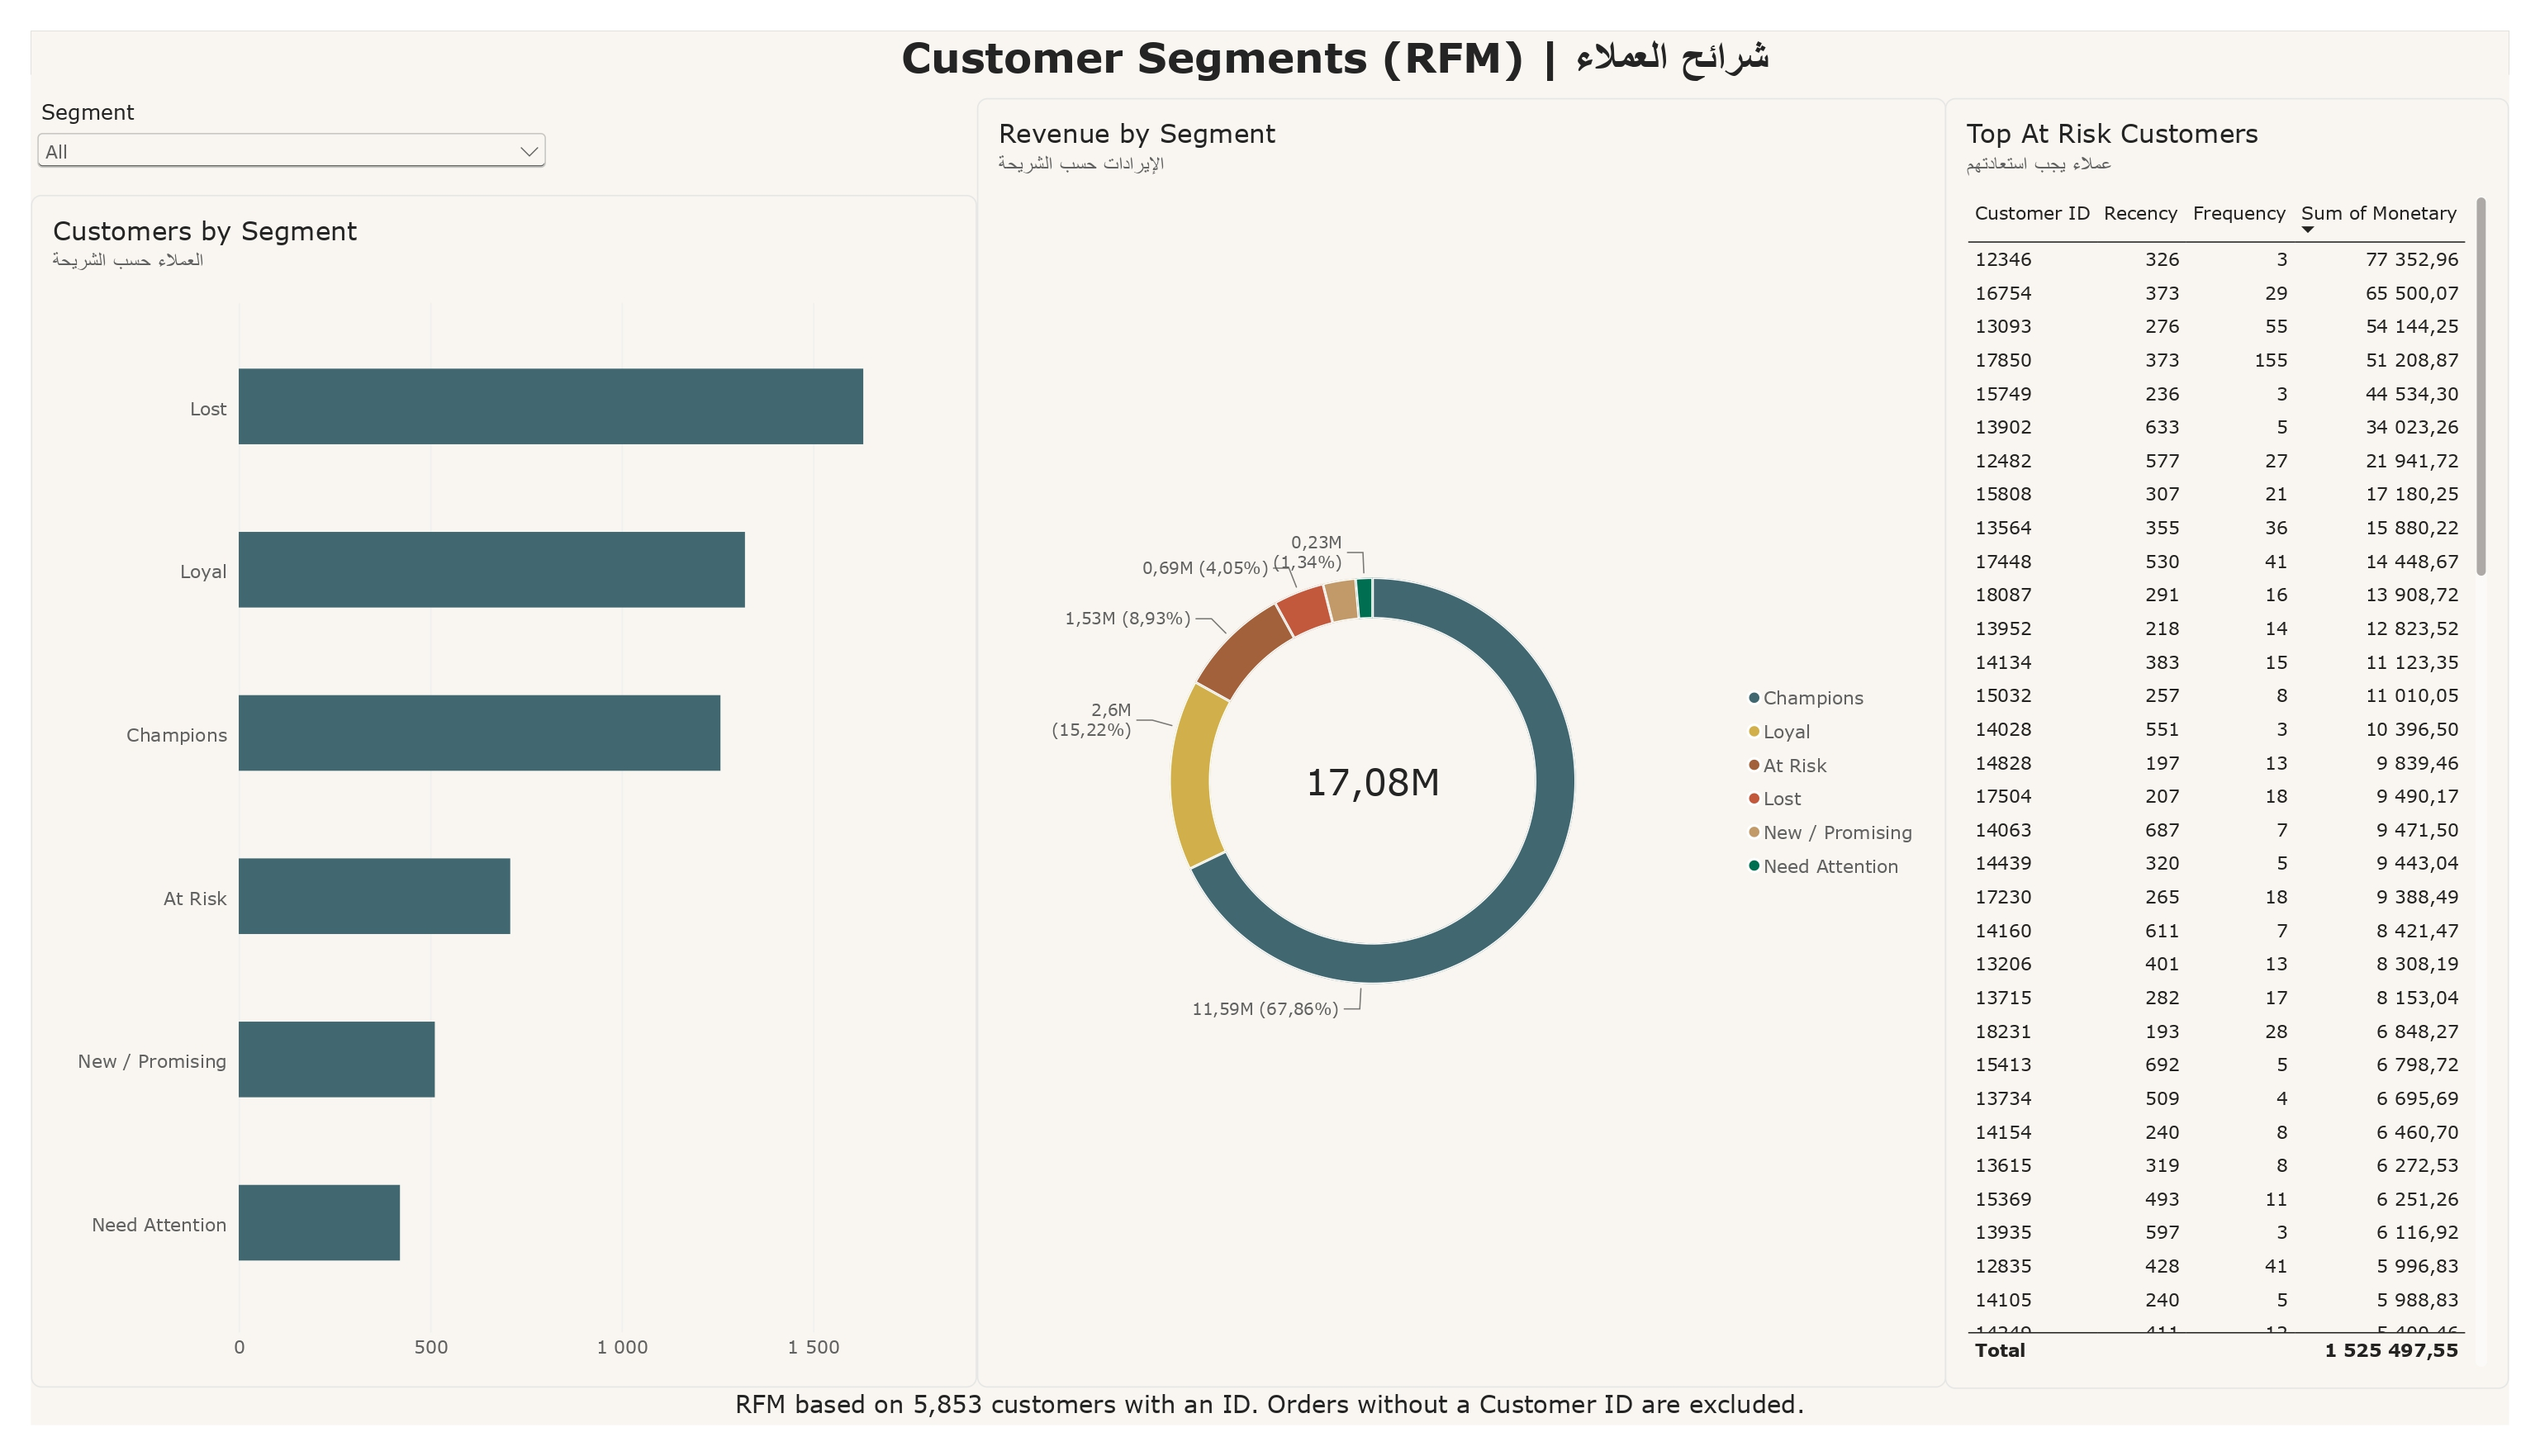

The page's visual inventory and layout, read from the dashboard file:
{"tool":"powerbi","page":{"name":"Customer Segments","canvas":[1920,1080],"ordinal":1},"visuals":[{"type":"clusteredBarChart","title":"Customers by Segment ","fields":{"Category":["RFM.Segment"],"Y":["Count(RFM.Customer ID)"]},"box":[0,126.7,732.9,924.7],"z":1},{"type":"donutChart","title":"Revenue by Segment","fields":{"Category":["RFM.Segment"],"Y":["Sum(RFM.Monetary)"]},"box":[732.9,52.5,751,998.9],"z":2},{"type":"slicer","fields":{"Values":["RFM.Segment"]},"box":[0,53.1,404.1,73.5],"z":3},{"type":"tableEx","title":"Top At Risk Customers","fields":{"Values":["RFM.Customer ID","RFM.Recency","RFM.Frequency","Sum(RFM.Monetary)"]},"box":[1482.6,52.2,437,1000],"z":4},{"type":"textbox","box":[100,0,1819.6,52.2],"z":6},{"type":"textbox","box":[0,1052.2,1919.6,28.3],"z":8}]}

Visuals, with their boxes on the page's 1920x1080 design canvas (x1, y1, x2, y2). These are canvas units, not pixel positions in the 2540x1456 screenshot, which may show the page scaled, cropped or inside an application window:
"Customers by Segment " clusteredBarChart: pyautogui.locateOnScreen(0, 127, 733, 1051)
"Revenue by Segment" donutChart: pyautogui.locateOnScreen(733, 52, 1484, 1051)
slicer - RFM.Segment: pyautogui.locateOnScreen(0, 53, 404, 127)
"Top At Risk Customers" tableEx: pyautogui.locateOnScreen(1483, 52, 1920, 1052)
textbox: pyautogui.locateOnScreen(100, 0, 1920, 52)
textbox: pyautogui.locateOnScreen(0, 1052, 1920, 1080)
